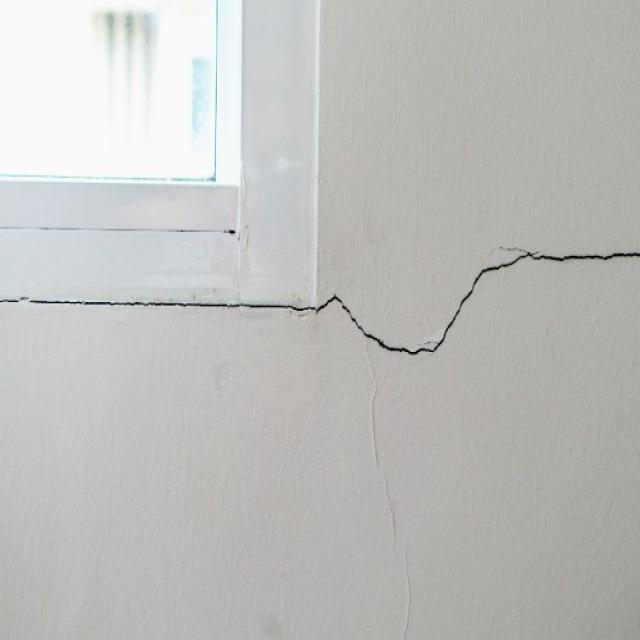Crack: (318, 247, 639, 357)
